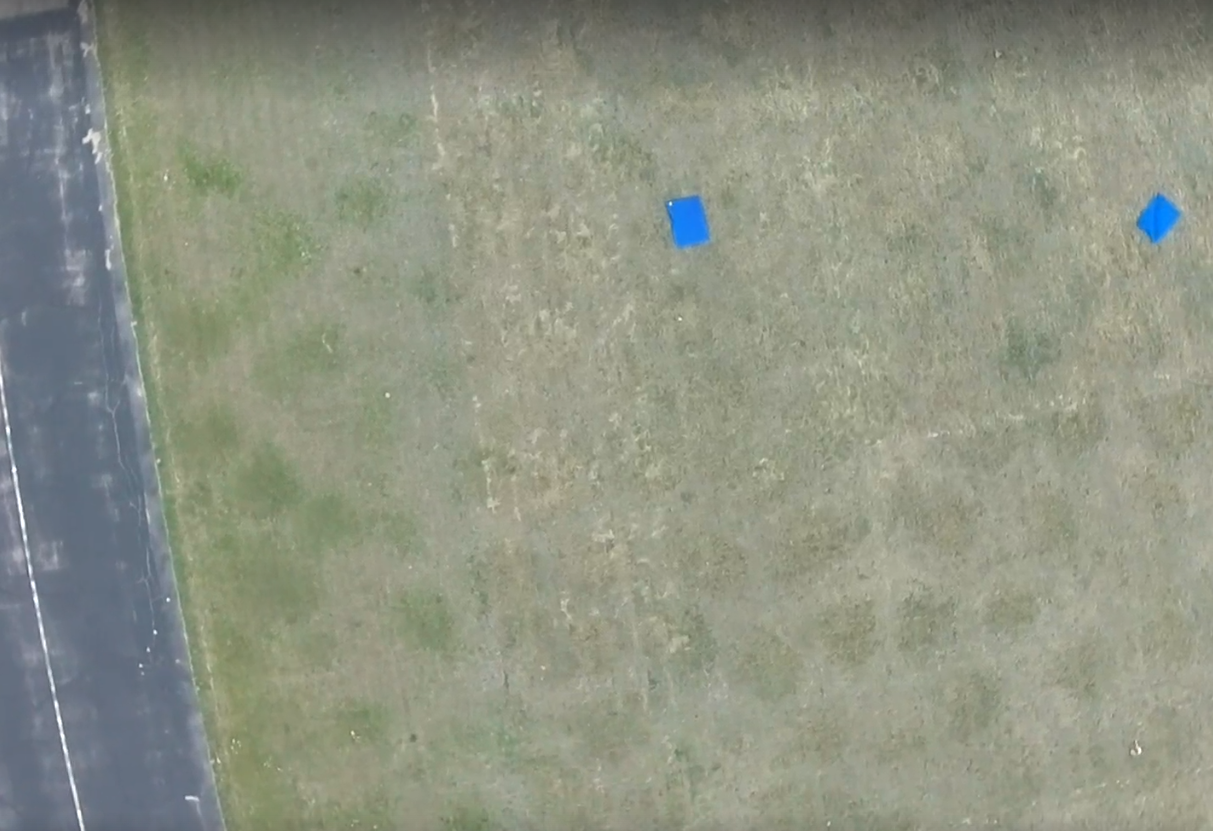TOI: (663, 194, 711, 248), (1135, 194, 1181, 241)
